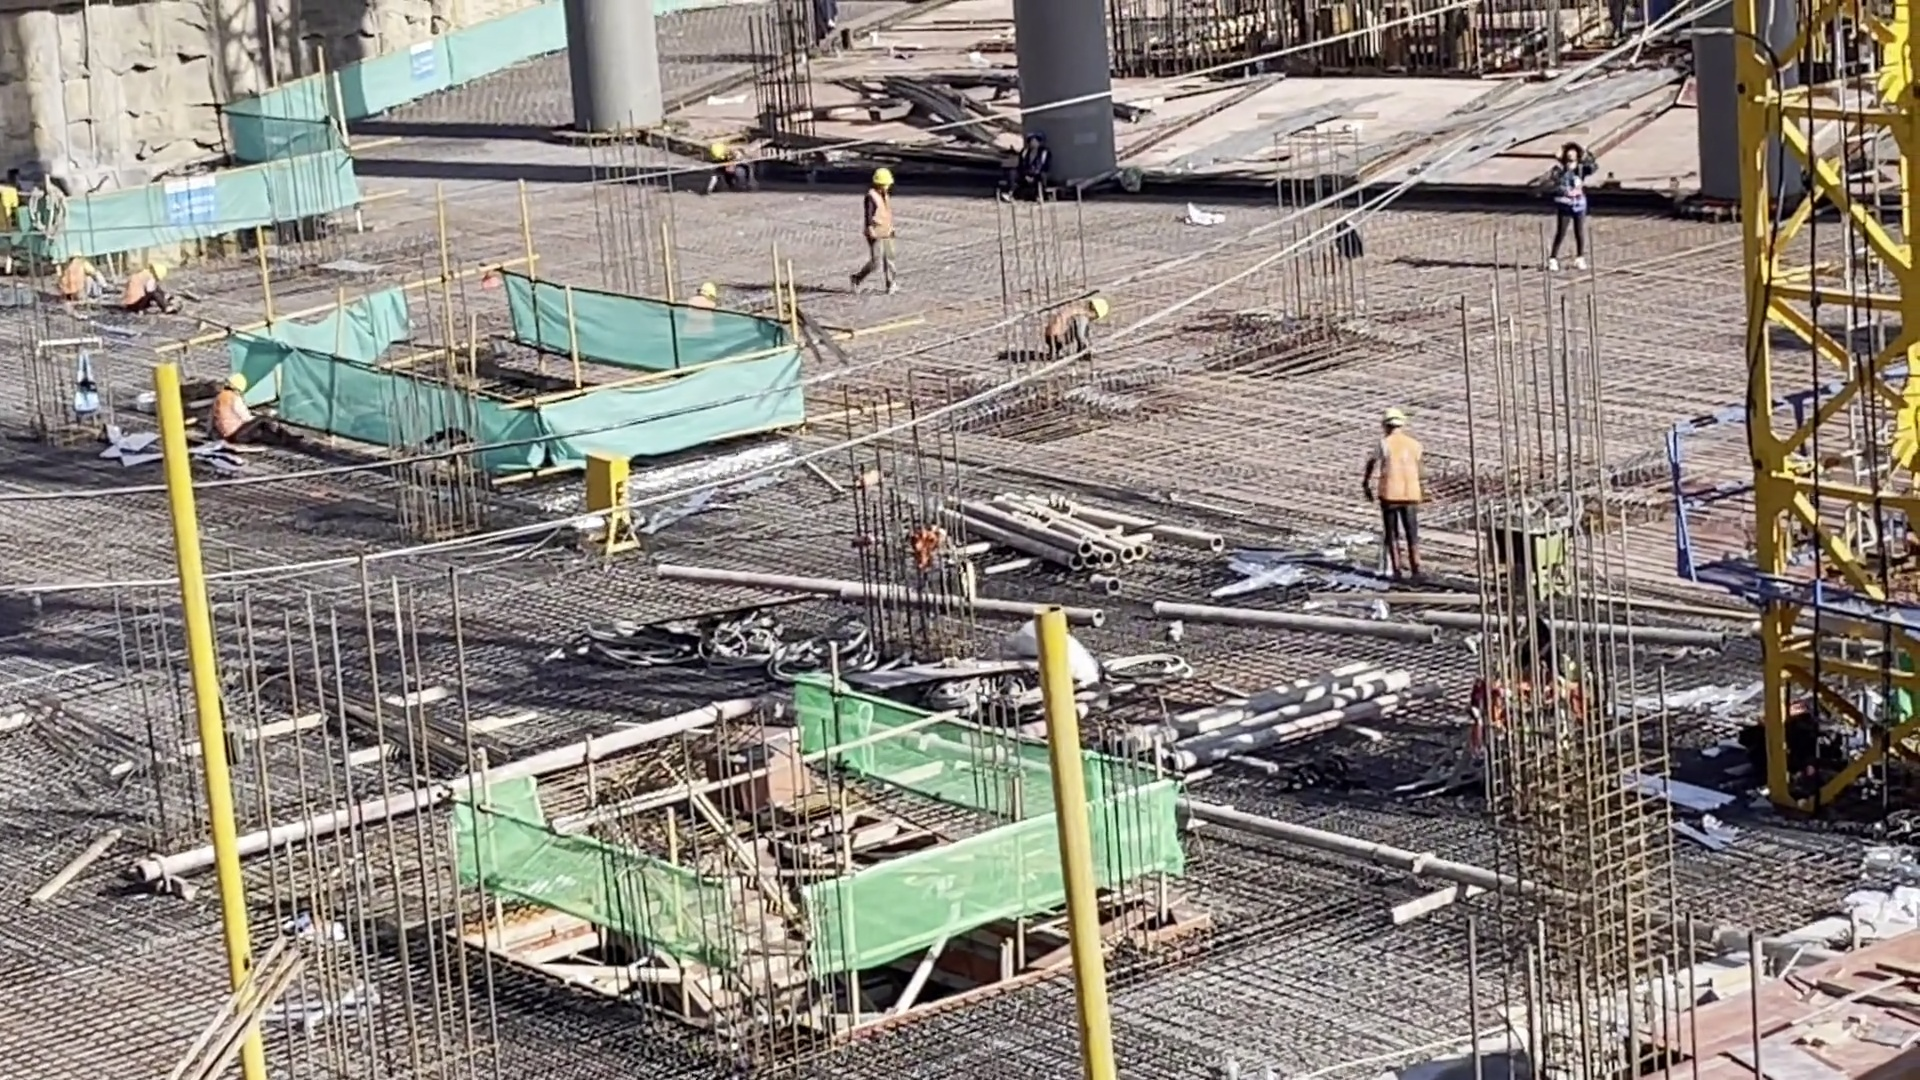ebox: (589, 453, 639, 557)
helmet: (872, 168, 891, 188), (1093, 298, 1112, 320), (1386, 408, 1408, 425), (152, 261, 169, 282), (701, 280, 713, 299), (229, 372, 244, 388), (709, 143, 724, 158)
person: (1363, 411, 1430, 586), (1543, 141, 1591, 285), (860, 165, 903, 302), (210, 365, 269, 439), (1043, 295, 1107, 364), (122, 254, 180, 316), (686, 276, 730, 345), (704, 141, 758, 189), (59, 252, 108, 302), (1014, 134, 1051, 193)
slogan: (159, 177, 225, 221), (407, 45, 443, 84)
vest: (1381, 431, 1426, 509), (1559, 165, 1588, 216), (210, 391, 243, 437), (1049, 307, 1086, 345), (866, 190, 894, 236), (119, 271, 154, 305), (61, 262, 85, 300), (692, 298, 715, 338)
